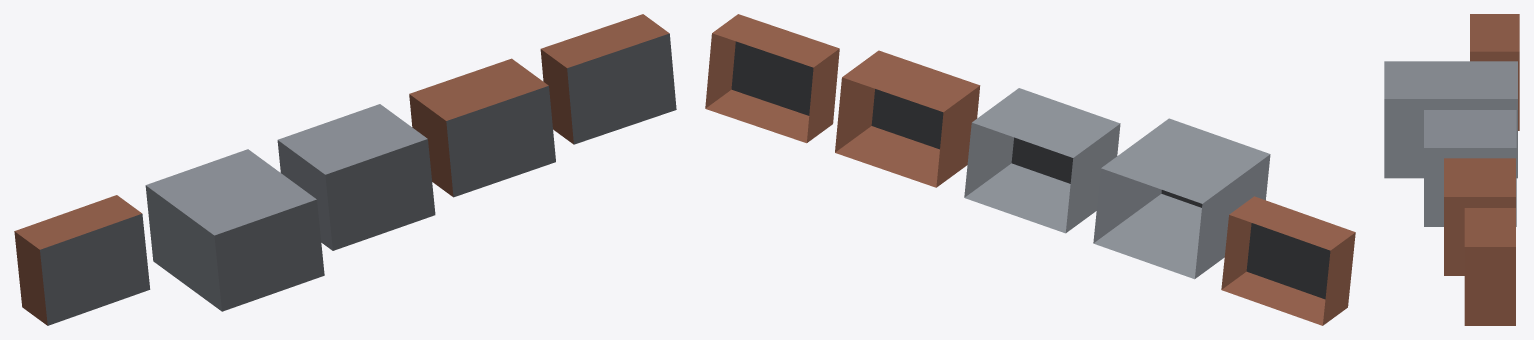
File: island_bldg_22_10.obj
3 views of the same model, side by side, from view 1: azimuth 30°, elevation 25°; view 2: azimuth 150°, elevation 25°; view 3: azimuth 270°, elevation 25° (orthographic). The views are drawn at different scales.
Parts seen in each view (by area): view 1: island_bldg_22_10; view 2: island_bldg_22_10; view 3: island_bldg_22_10.
Part boxes in pixels (x1,y1,x2,y2): island_bldg_22_10: [14, 14, 676, 325]; island_bldg_22_10: [705, 14, 1355, 325]; island_bldg_22_10: [1384, 14, 1519, 325].
Bounding box in the file's own units: 135 × 29.27 × 25.76.
